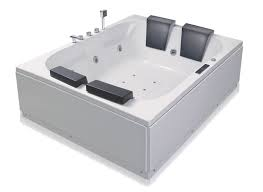bathub: (12, 9, 248, 192)
